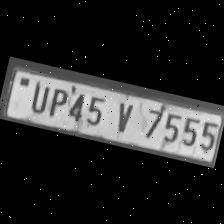4: (62, 86, 88, 122)
5: (80, 90, 110, 128), (194, 116, 222, 152), (158, 107, 184, 144), (177, 112, 203, 148)
7: (134, 102, 166, 141)
P: (43, 82, 70, 119)
U: (25, 78, 52, 114)
V: (106, 94, 141, 134)
